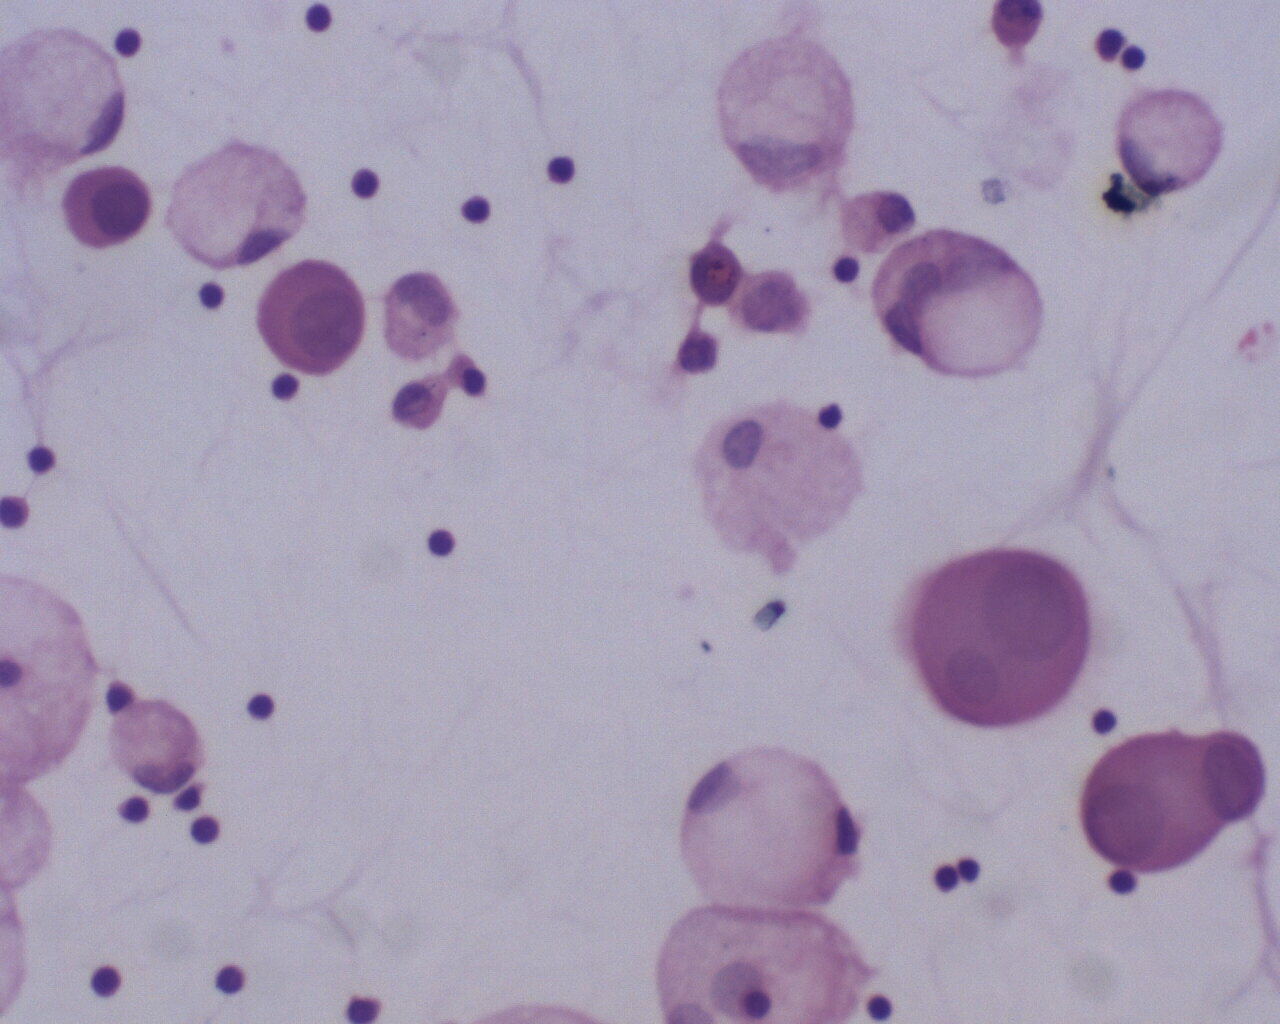ab: (908, 549, 1090, 730), (251, 260, 372, 374), (60, 163, 160, 253)
histo: (679, 745, 860, 917), (1063, 725, 1263, 874), (690, 406, 861, 569), (700, 24, 862, 192), (167, 141, 311, 272), (1, 27, 127, 165), (1113, 78, 1227, 197)
lymph: (535, 148, 584, 193), (86, 958, 132, 1002), (343, 162, 386, 202), (421, 518, 460, 559), (300, 2, 343, 39), (241, 688, 276, 730), (457, 191, 496, 228), (265, 372, 305, 409), (211, 961, 248, 1000)
